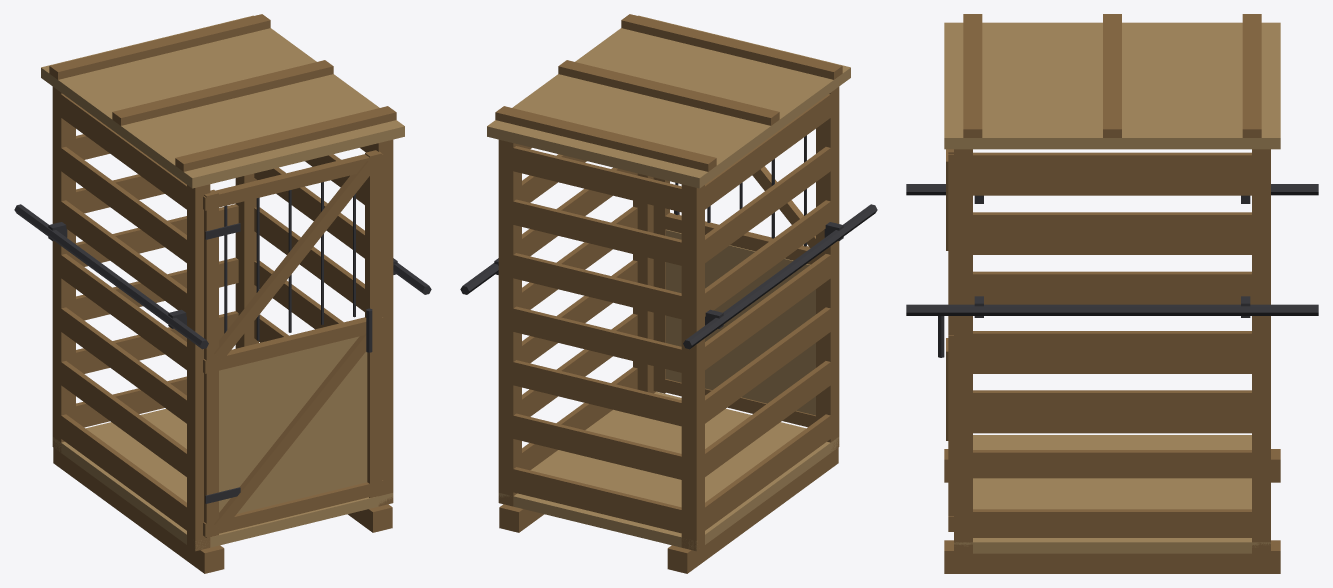
The model's file is Prop_Release_Crate_Closed.glb.
3 views of the same model, side by side, from view 1: azimuth 30°, elevation 25°; view 2: azimuth 150°, elevation 25°; view 3: azimuth 270°, elevation 25° (orthographic). The views are drawn at different scales.
Visible parts, largest first — view 1: Prop_Release_Crate_Closed, Prop_Release_Crate_Closed_Door; view 2: Prop_Release_Crate_Closed, Prop_Release_Crate_Closed_Door; view 3: Prop_Release_Crate_Closed, Prop_Release_Crate_Closed_Door.
Boxes of the visible parts, x1,y1,x2,y2 form: Prop_Release_Crate_Closed: (14, 14, 431, 573); Prop_Release_Crate_Closed_Door: (203, 150, 383, 537); Prop_Release_Crate_Closed: (460, 14, 877, 573); Prop_Release_Crate_Closed_Door: (653, 135, 815, 427); Prop_Release_Crate_Closed: (906, 14, 1318, 573); Prop_Release_Crate_Closed_Door: (938, 149, 953, 531).
Size of what is drawn, in the model's own units: 0.936 by 1.57 by 1.3.
